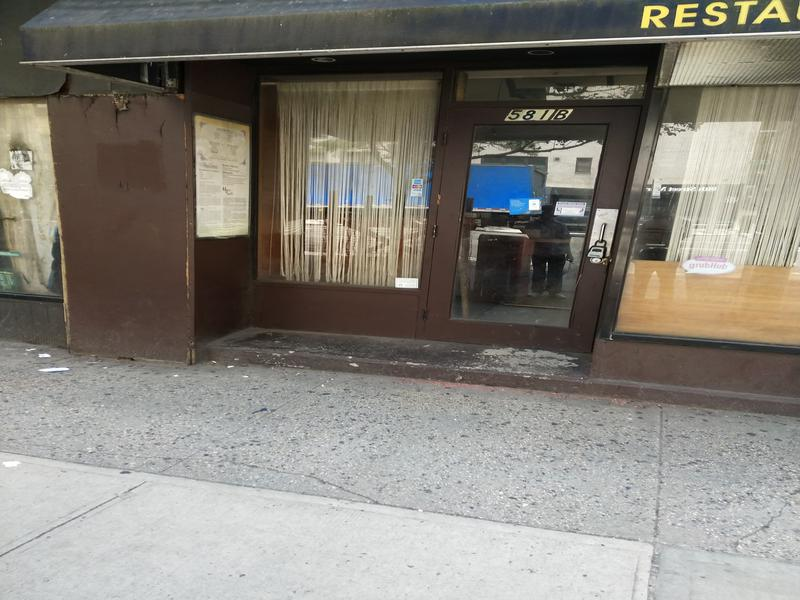door: (424, 98, 632, 359)
